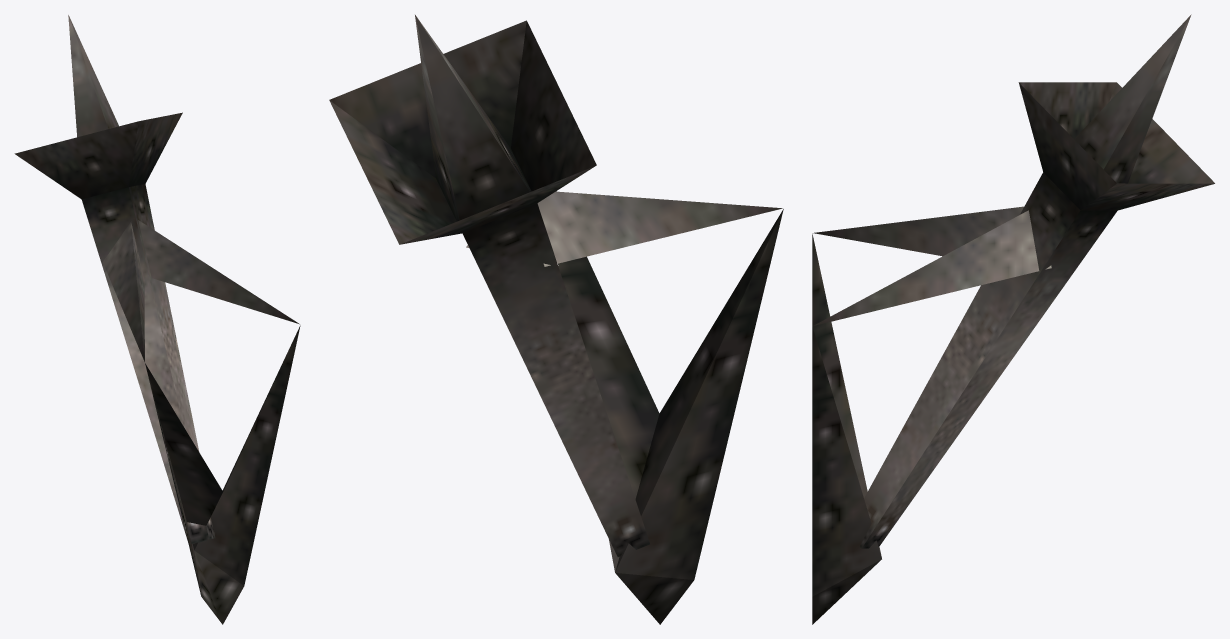
The model's file is stto9.dae.
The picture shows the model from 3 angles, left to right: view 1: azimuth 30°, elevation 25°; view 2: azimuth 150°, elevation 25°; view 3: azimuth 270°, elevation 25°; orthographic projection. The views are drawn at different scales.
Parts seen in each view (by area): view 1: wall; view 2: wall; view 3: wall.
Boxes of the visible parts, box(x1,y1,x2,y2) form: wall: box(14, 15, 300, 624); wall: box(329, 15, 783, 624); wall: box(812, 14, 1214, 624).
Bounding box in the file's own units: 0.4239 × 0.715 × 1.2.
Materials: 1 (1 with a texture image).
